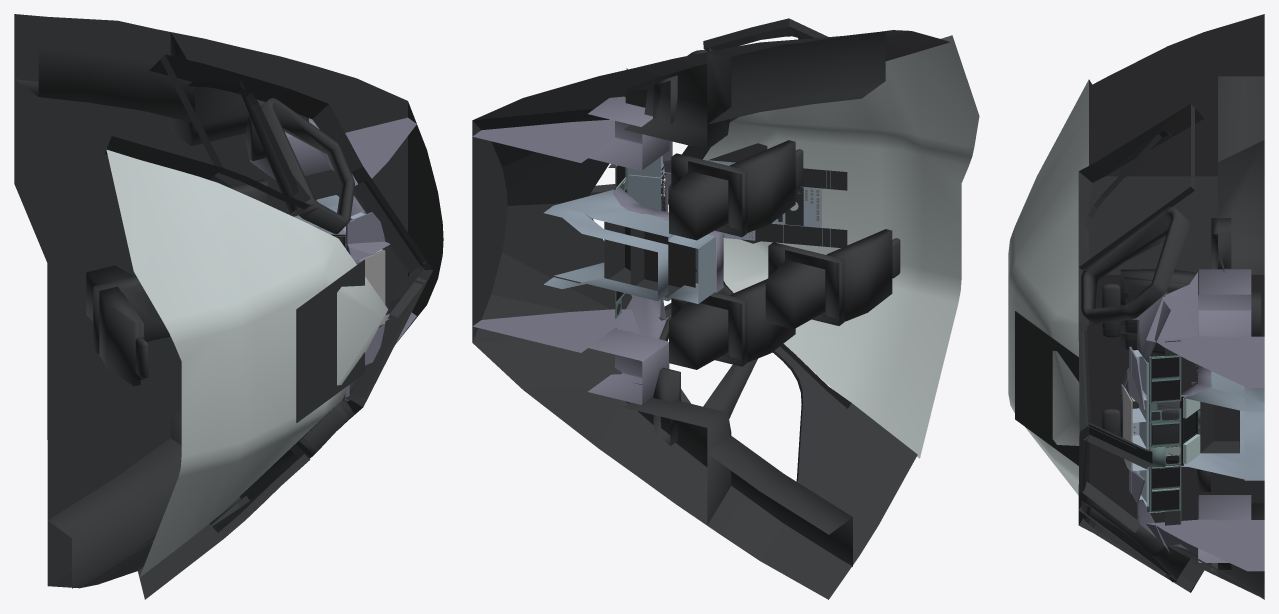
Rendered from a380-800-cockpit.glb.
3 renders of one model, left to right at view 1: azimuth 30°, elevation 25°; view 2: azimuth 150°, elevation 25°; view 3: azimuth 270°, elevation 25°, orthographic. The views are drawn at different scales.
Size of the model in its own units: 3.26 by 4.59 by 1.93.
56 materials, 5 textured.
